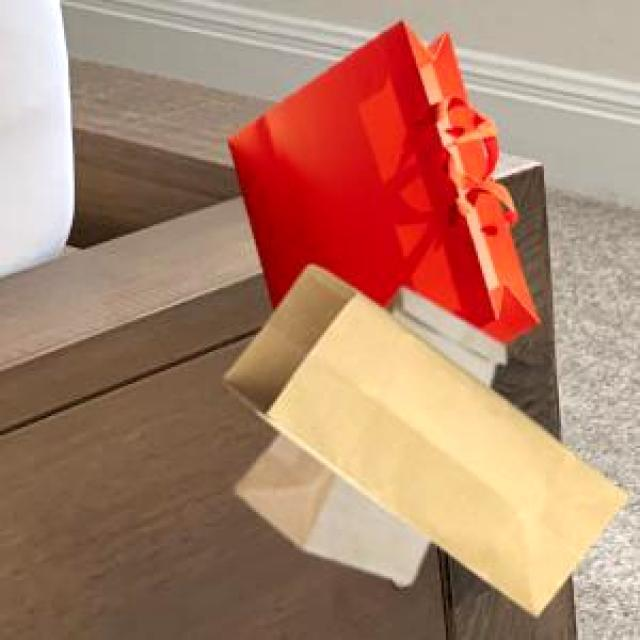Paper_Bag: (223, 262, 624, 614), (225, 18, 537, 343), (232, 284, 502, 582)
